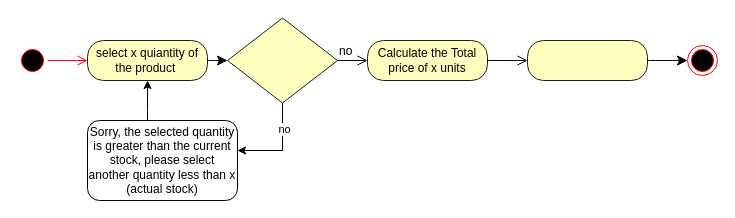
This 735x218 diagram has some shape labels left out. The shapes that lost their labels are listed below. From the top down, each one's centre as x and y in pixels, then its label:
the point at 282,60: if x > current stock
the point at 587,60: Show the price to pay
